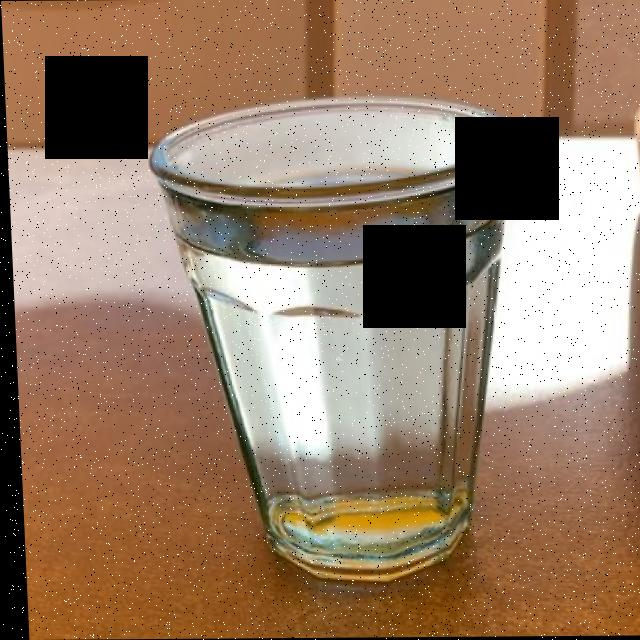water: (170, 111, 502, 552), (175, 203, 509, 554)
